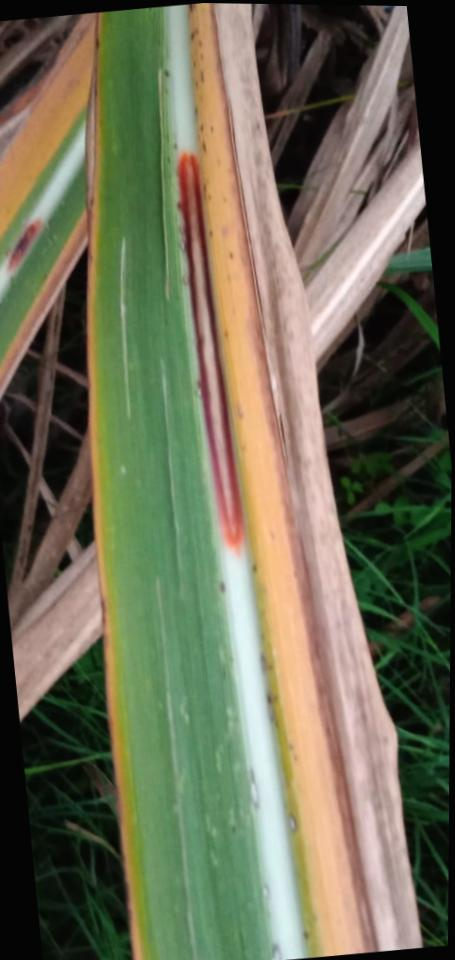RedRot: (175, 152, 242, 550), (7, 218, 39, 270)
Yellow: (188, 3, 385, 957), (87, 12, 156, 960), (0, 13, 97, 237), (0, 205, 88, 397)
